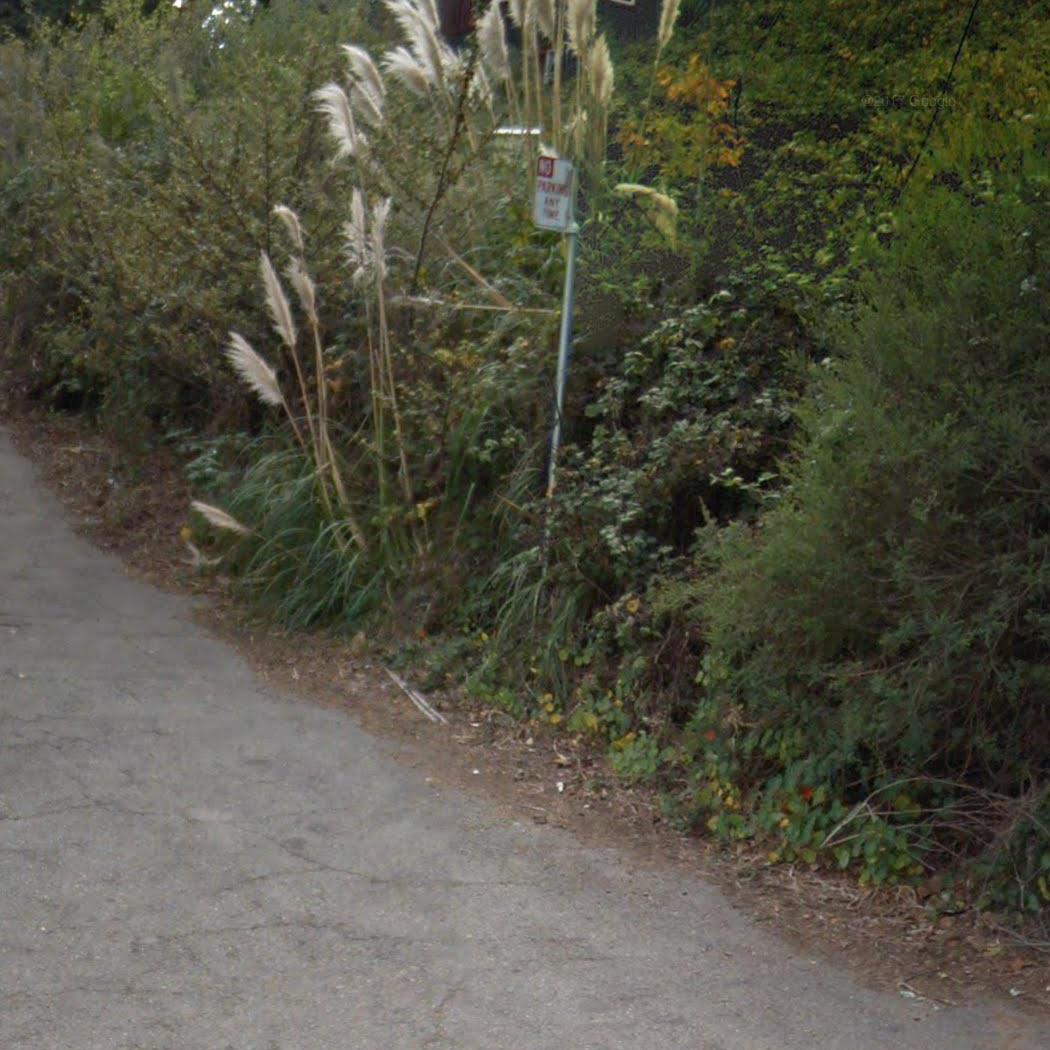No Parking Anytime: (529, 154, 575, 234)
